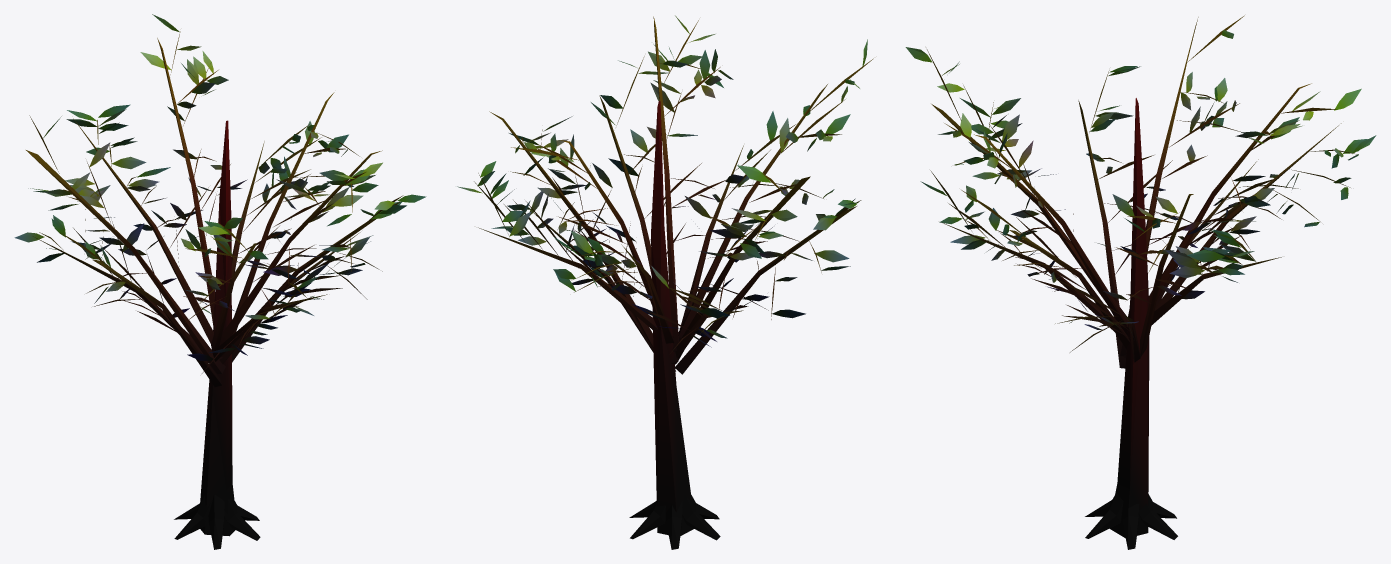
File: Tree_Jacaranda_LOD2.fbx
The picture shows the model from 3 angles, left to right: view 1: azimuth 30°, elevation 25°; view 2: azimuth 150°, elevation 25°; view 3: azimuth 270°, elevation 25°; orthographic projection. The views are drawn at different scales.
Visible parts, largest first — view 1: Tree_Jacaranda_LOD2; view 2: Tree_Jacaranda_LOD2; view 3: Tree_Jacaranda_LOD2.
Part boxes in pixels (left/top/right/bottom): Tree_Jacaranda_LOD2: left=14, top=14, right=426, bottom=549; Tree_Jacaranda_LOD2: left=457, top=15, right=873, bottom=549; Tree_Jacaranda_LOD2: left=905, top=15, right=1376, bottom=549.
Bounding box in the file's own units: 8.84 × 11.33 × 10.47.
